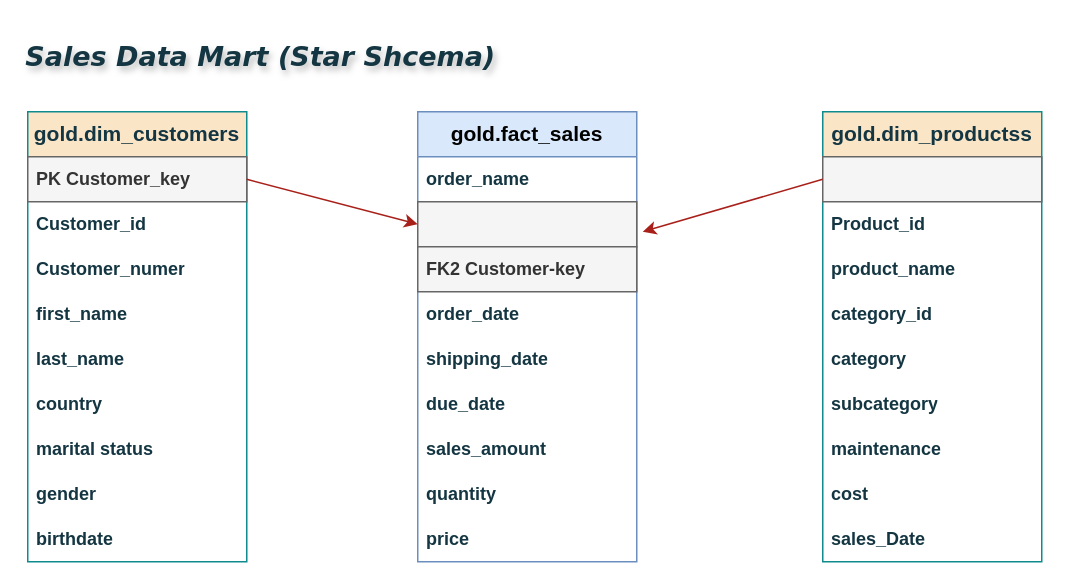
The diagram is 1068 pixels wide and 588 high, and some of its shapes have lost their labels. The centre of each missing label's shape, as x and y in pixels:
"FK1 product_key" belongs at pixel 526 223.
"PK Product_key" belongs at pixel 931 178.
